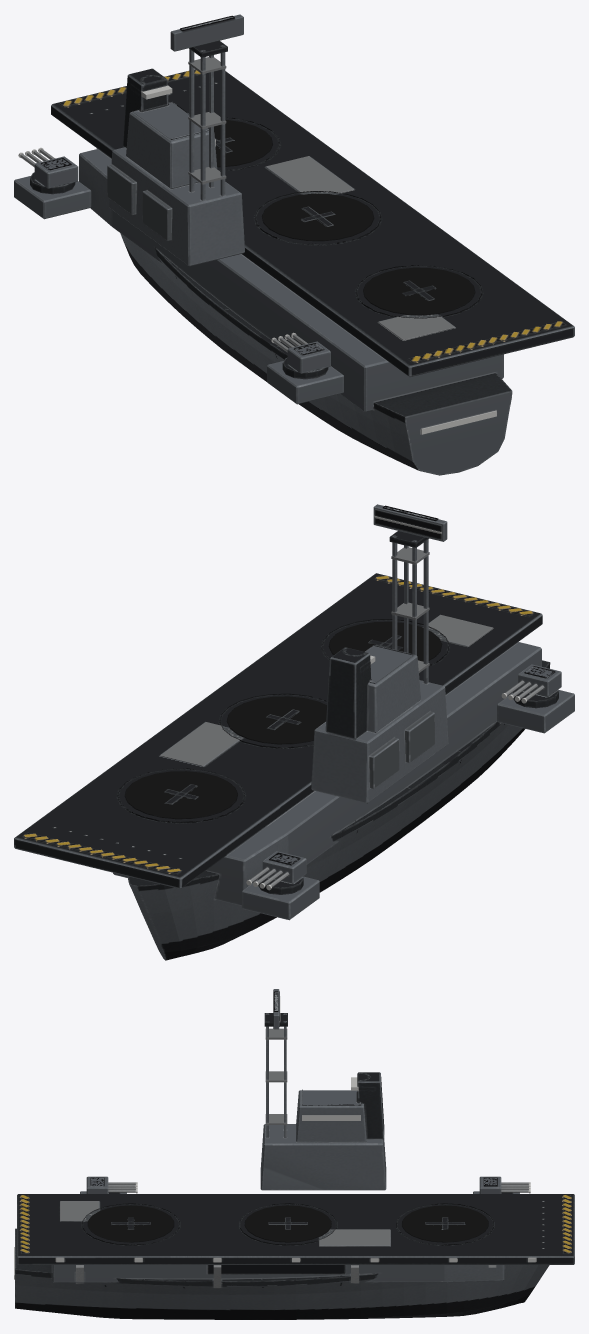
File: chs_leviathan.fbx
3 renders of one model, top to bottom at view 1: azimuth 30°, elevation 25°; view 2: azimuth 150°, elevation 25°; view 3: azimuth 270°, elevation 25°, orthographic. The views are drawn at different scales.
Visible parts, largest first — view 1: base_bar, turret1_bar, turret2_bar, radar_bar, base_glow_running_bar; view 2: base_bar, turret1_bar, turret2_bar, radar_bar; view 3: base_bar, base_glow_running_bar, turret1_bar, turret2_bar.
Boxes of the visible parts, x1=… form: base_bar: x1=14, y1=40, x2=574, y2=475; turret1_bar: x1=20, y1=149, x2=78, y2=194; turret2_bar: x1=273, y1=334, x2=330, y2=379; radar_bar: x1=170, y1=14, x2=243, y2=51; base_glow_running_bar: x1=141, y1=85, x2=496, y2=434; base_bar: x1=14, y1=531, x2=574, y2=960; turret1_bar: x1=250, y1=851, x2=306, y2=894; turret2_bar: x1=505, y1=664, x2=561, y2=708; radar_bar: x1=373, y1=504, x2=447, y2=541; base_bar: x1=15, y1=1013, x2=574, y2=1319; base_glow_running_bar: x1=14, y1=1077, x2=535, y2=1279; turret1_bar: x1=479, y1=1176, x2=528, y2=1193; turret2_bar: x1=86, y1=1176, x2=135, y2=1193.
Bounding box in the file's own units: 1095 × 1604 × 2856.
2 materials, 2 textured.
